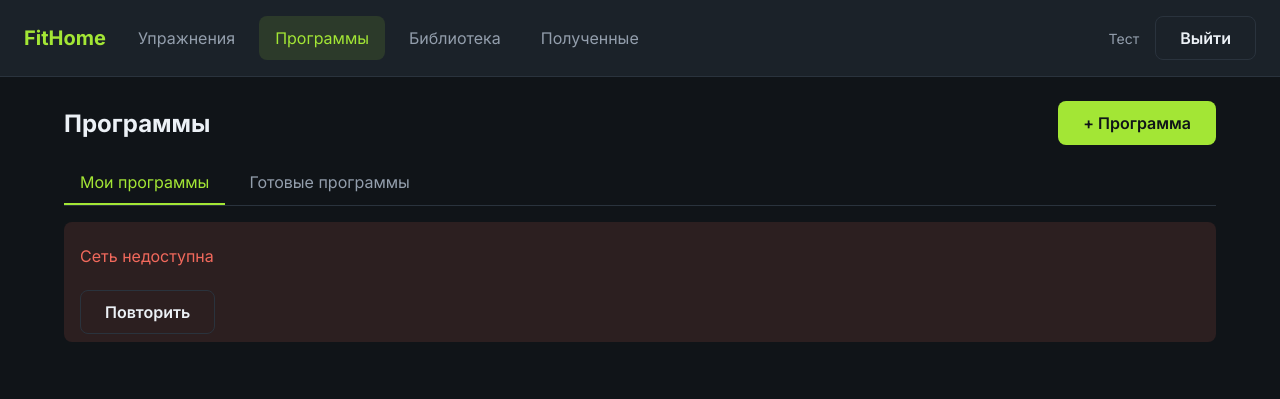
it: ProgramsPage — вкладки и списки › ошибка API → баннер и «Повторить»
This screenshot has width=1280, height=399.
Expected: the message shows "Сеть недоступна", [80,246,214,266]
Click the button "Повторить" at (148, 312), box [80,290,215,334]
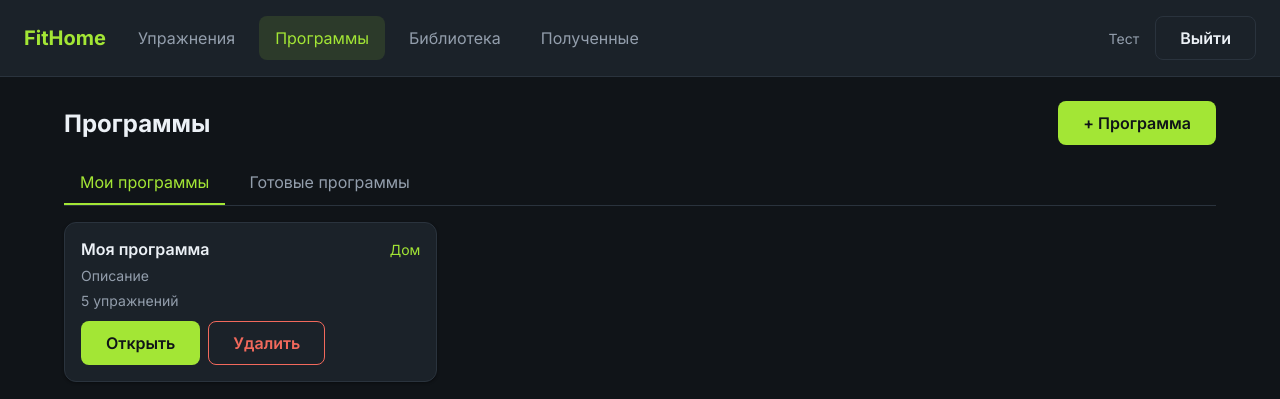
Expected: the heading "Моя программа" is shown, [81,239,209,259]
